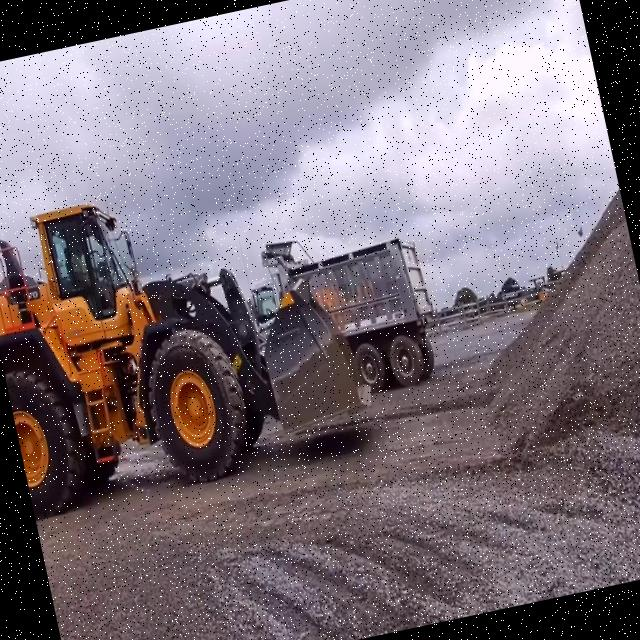Dump Truck: (235, 211, 448, 414)
Loader: (0, 151, 382, 518)
